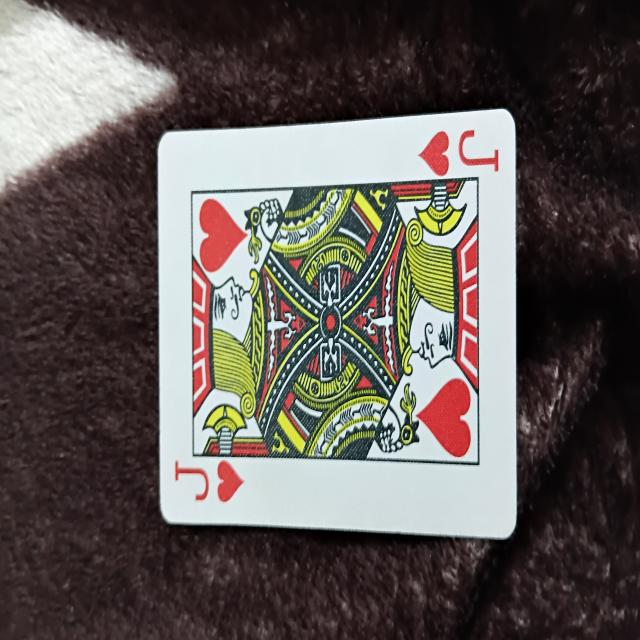JH: (157, 119, 518, 542)
